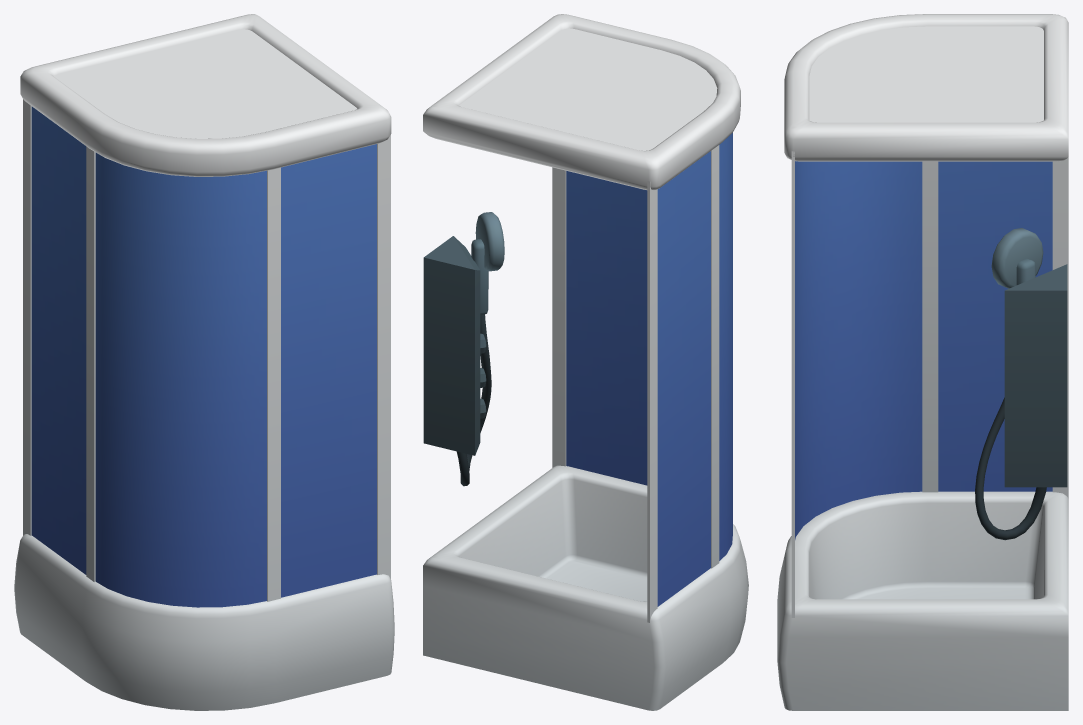
The model's file is Shower_01.glb.
The picture shows the model from 3 angles, left to right: view 1: azimuth 30°, elevation 25°; view 2: azimuth 150°, elevation 25°; view 3: azimuth 270°, elevation 25°; orthographic projection. The views are drawn at different scales.
Parts seen in each view (by area): view 1: Shower_01; view 2: Shower_01; view 3: Shower_01.
Boxes of the visible parts, box(x1,y1,x2,y2) form: Shower_01: box(14, 14, 394, 710); Shower_01: box(423, 14, 748, 710); Shower_01: box(777, 14, 1068, 710).
Bounding box in the file's own units: 0.8204 × 1.8 × 0.8204.
2 materials, 2 textured.
